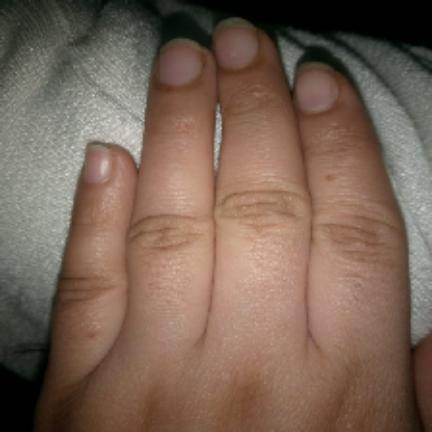Nail: (214, 20, 259, 70), (294, 65, 338, 114), (159, 41, 202, 86), (82, 143, 111, 183)
